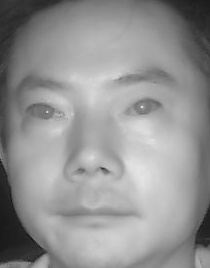eye: (122, 95, 171, 123), (23, 99, 67, 125)
mouth: (53, 190, 138, 237)
